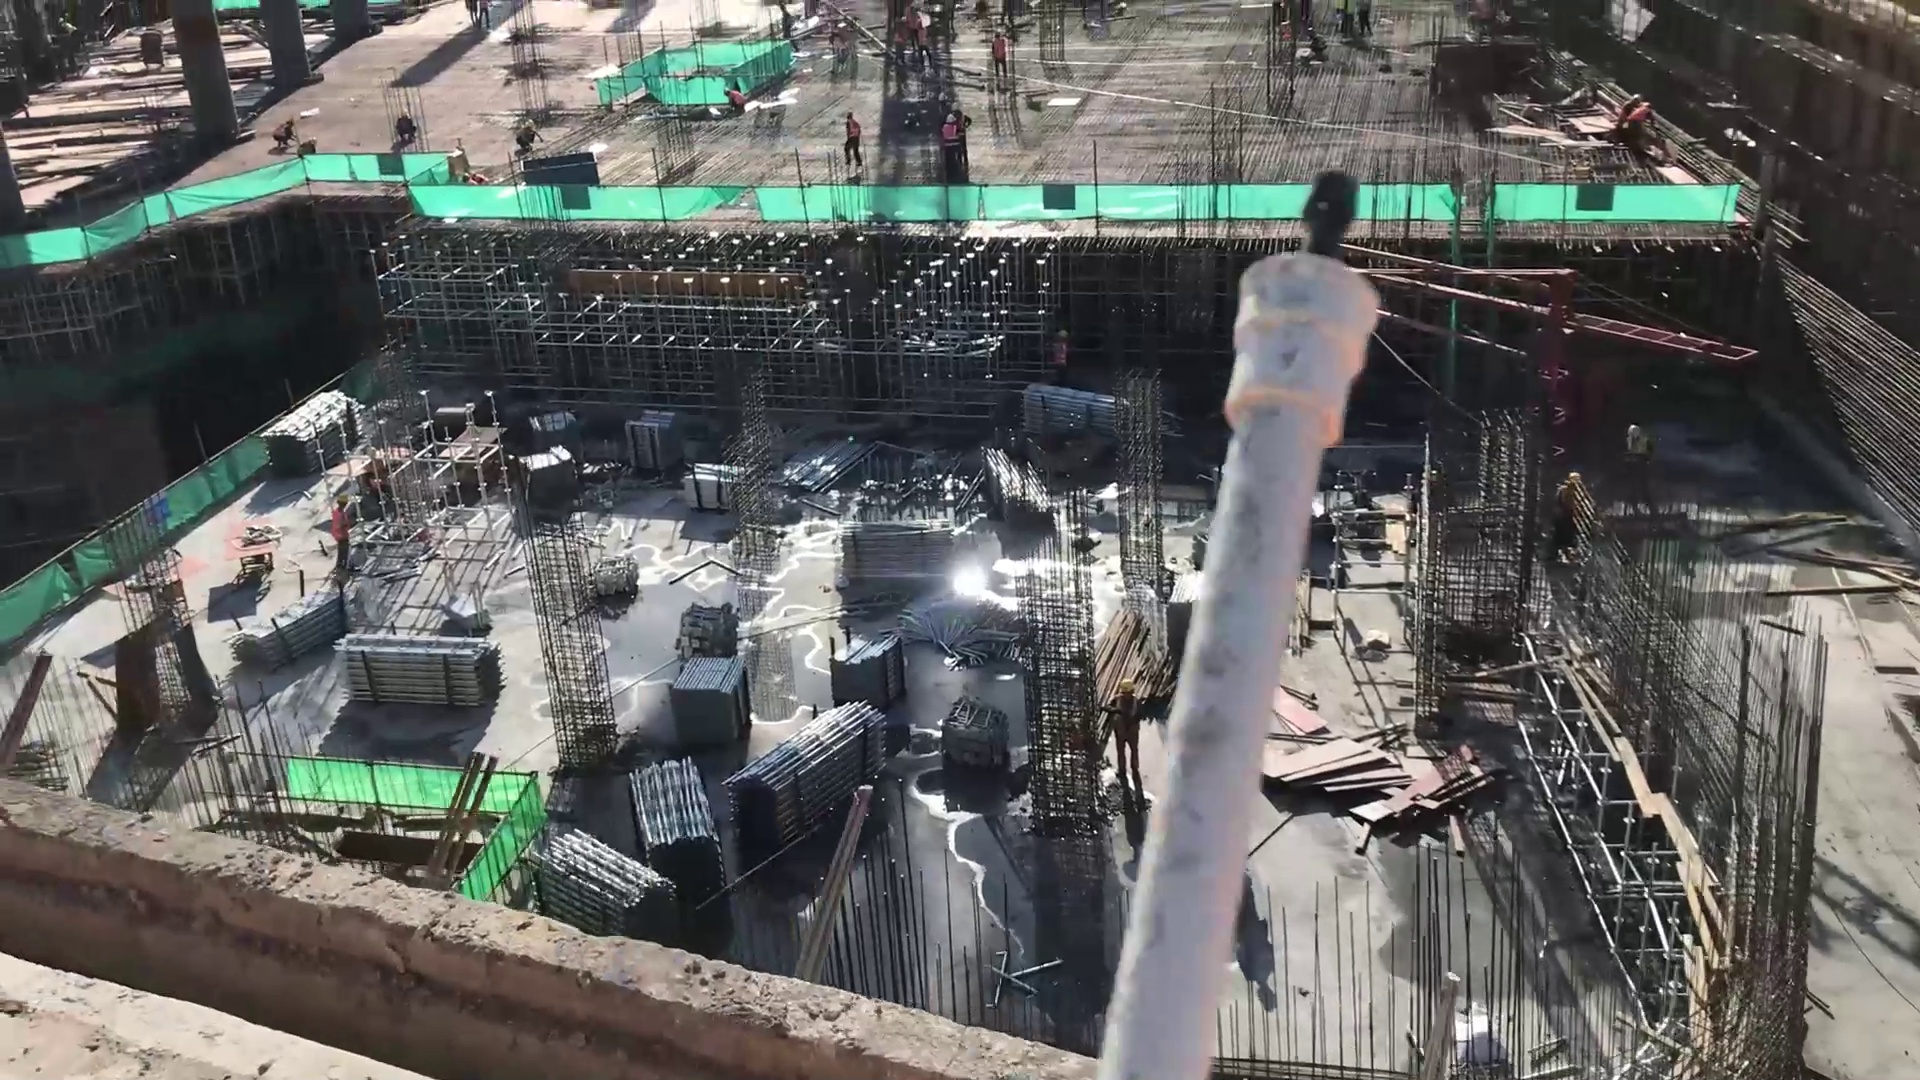board: (1277, 696, 1458, 853)
helmet: (1111, 672, 1136, 702), (329, 490, 349, 513), (721, 86, 737, 100), (941, 112, 960, 124), (990, 27, 1002, 39), (1637, 99, 1651, 109), (523, 117, 535, 129)
hopper: (518, 150, 605, 187)
person: (1107, 682, 1144, 788), (326, 496, 359, 573), (838, 109, 867, 172), (938, 112, 964, 167), (1632, 97, 1663, 142), (510, 121, 546, 155), (950, 103, 974, 144), (1619, 93, 1644, 134), (988, 30, 1009, 77), (269, 115, 298, 148), (391, 107, 416, 145), (720, 86, 751, 113), (905, 1, 924, 45), (916, 18, 935, 65), (894, 15, 910, 65), (291, 135, 321, 159), (1305, 25, 1328, 57)
scaffold: (730, 683, 884, 829), (321, 624, 496, 724), (533, 819, 655, 934), (625, 760, 726, 886), (247, 378, 369, 478), (220, 579, 356, 666), (827, 514, 959, 602), (1011, 383, 1127, 448), (810, 629, 901, 711), (669, 655, 762, 734), (792, 425, 869, 502), (606, 404, 682, 481), (513, 453, 587, 519), (425, 575, 492, 630), (672, 462, 731, 516), (527, 403, 583, 451)
vest: (1111, 699, 1138, 741), (331, 510, 352, 540), (992, 39, 1006, 63), (942, 123, 957, 142), (848, 121, 860, 146)
